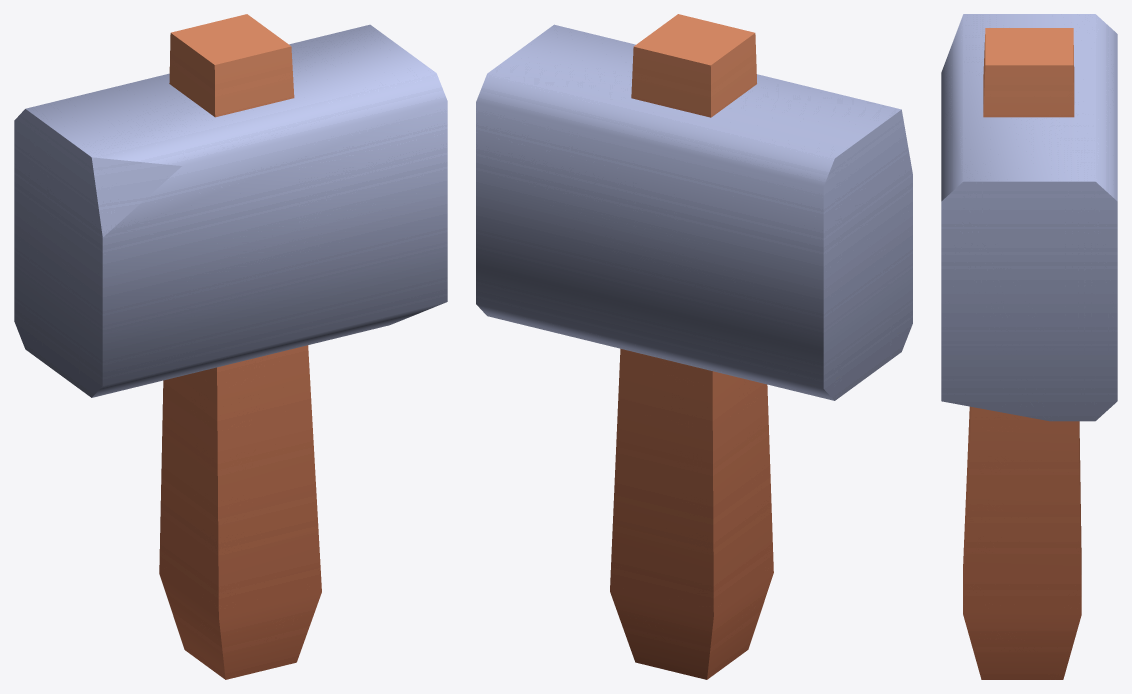
File: tool-hammer.glb
3 renders of one model, left to right at view 1: azimuth 30°, elevation 25°; view 2: azimuth 150°, elevation 25°; view 3: azimuth 270°, elevation 25°, orthographic.
Parts seen in each view (by area): view 1: tool-hammer; view 2: tool-hammer; view 3: tool-hammer.
Boxes of the visible parts, box(x1,y1,x2,y2) form: tool-hammer: box(14, 14, 447, 679); tool-hammer: box(476, 14, 912, 679); tool-hammer: box(941, 14, 1117, 679).
Size of the model in its own units: 0.09 by 0.1535 by 0.04.
Materials: 1 (1 with a texture image).
